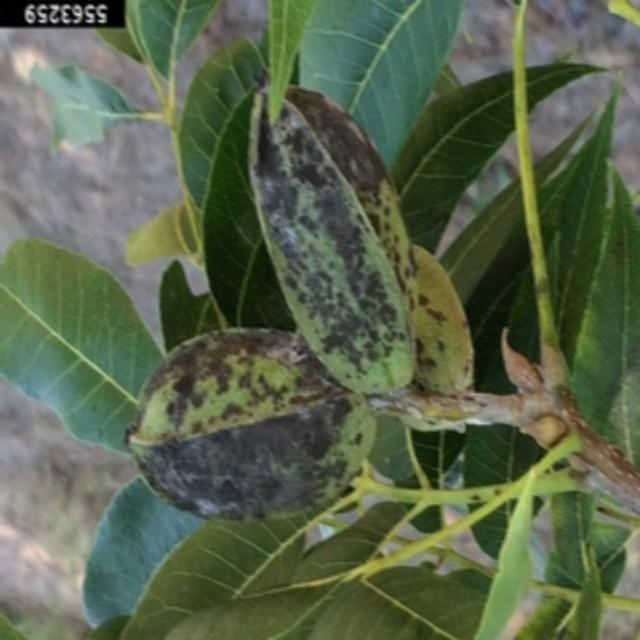leaf_spot: (253, 72, 509, 446)
